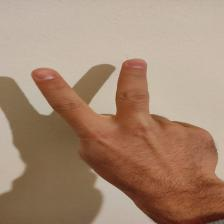two: (32, 56, 216, 177)
